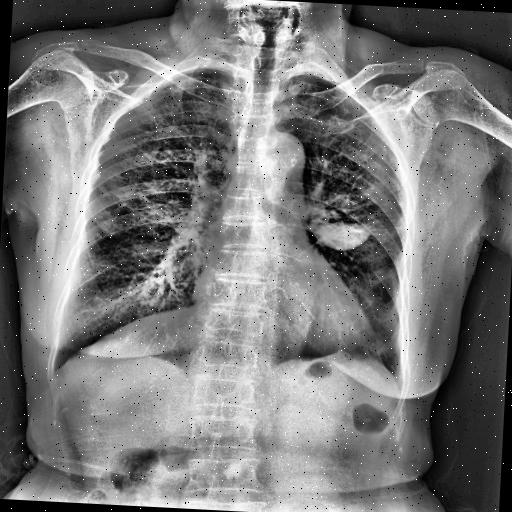0- Aortic enlargement: (254, 127, 304, 182), (256, 131, 306, 172)
11- Pleural thickening: (332, 347, 351, 358), (334, 346, 352, 356)
13- Pulmonary fibrosis: (89, 169, 157, 208), (97, 168, 151, 204)
4- Consolidation: (310, 221, 370, 251)
7- Lung Opacity: (310, 221, 370, 251), (314, 223, 372, 250)
8- Nodule-Mass: (312, 220, 374, 254), (314, 223, 372, 250), (365, 340, 388, 356)
9- Other lesion: (312, 220, 374, 254)
